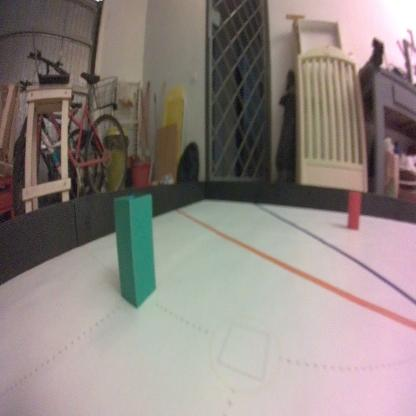green: (112, 189, 154, 310)
red: (346, 189, 360, 231)
